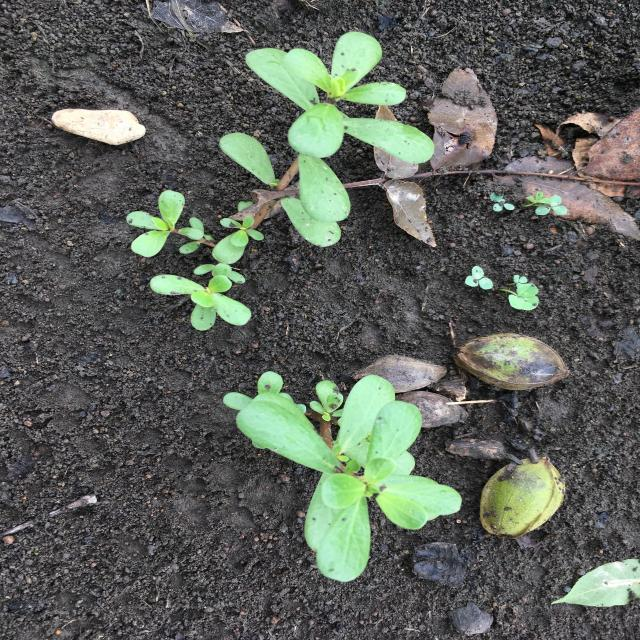Purslane: (126, 32, 435, 331), (223, 370, 462, 582)
